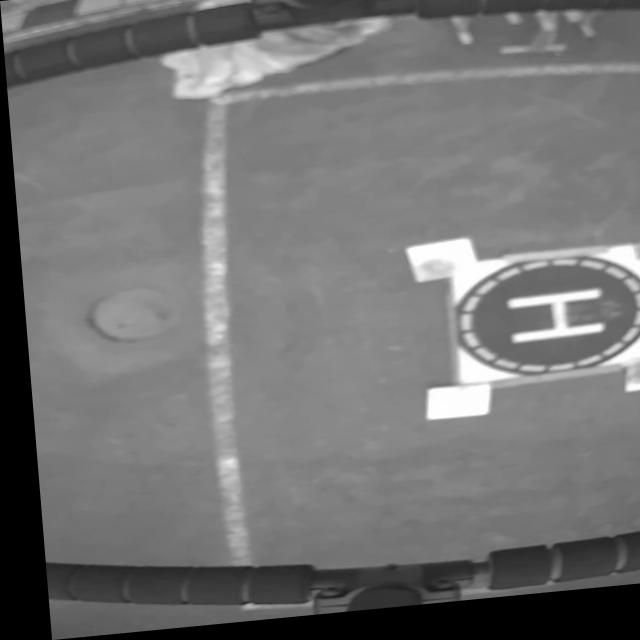Helipad: (502, 299, 599, 353)
